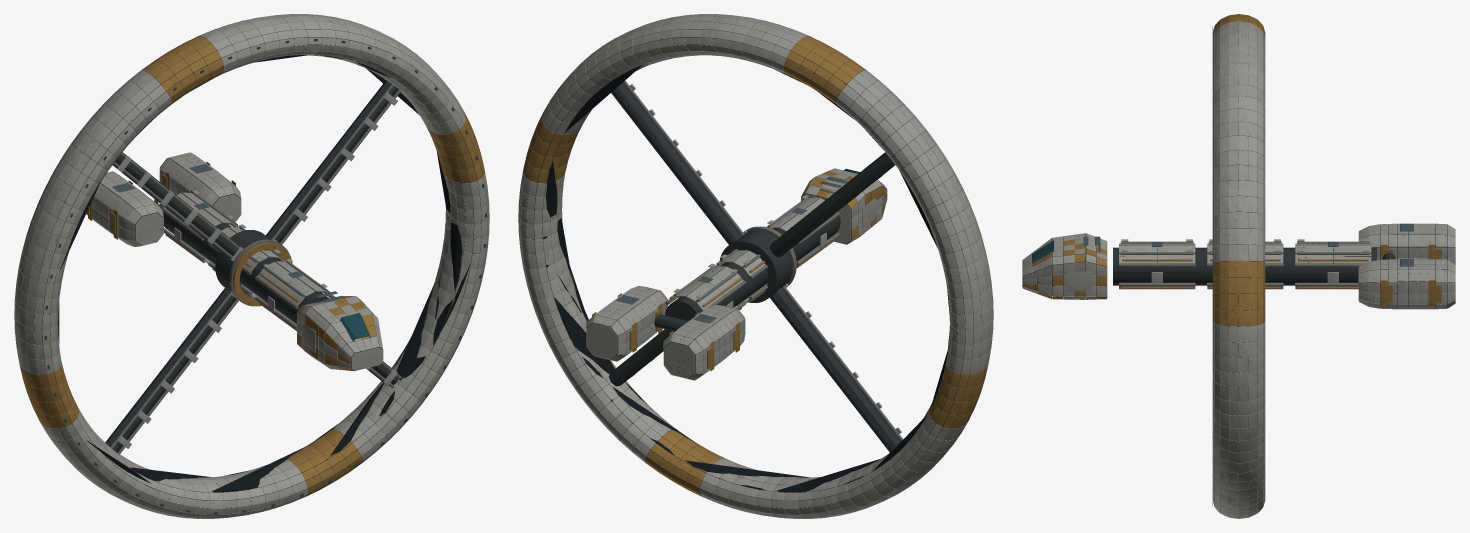
The model's file is model-outline.glb.
3 renders of one model, left to right at view 1: azimuth 30°, elevation 25°; view 2: azimuth 150°, elevation 25°; view 3: azimuth 270°, elevation 25°, orthographic. The views are drawn at different scales.
Visible parts, largest first — view 1: rotor:pale-steel-1, rotor:pale-steel-2, rotor:pale-steel-0, rotor:ochre-0, pale-steel-0, rotor:recess-black, rotor:dark-structure, rotor:machined-alloy, dark-structure, pale-steel-1, ochre-0, machined-alloy (+3 smaller); view 2: rotor:pale-steel-1, rotor:pale-steel-2, rotor:pale-steel-0, rotor:dark-structure, pale-steel-0, rotor:ochre-0, rotor:recess-black, dark-structure, pale-steel-1, ochre-0, rotor:machined-alloy, machined-alloy (+2 smaller); view 3: pale-steel-0, rotor:pale-steel-2, rotor:pale-steel-1, rotor:pale-steel-0, rotor:ochre-0, dark-structure, pale-steel-1, machined-alloy, ochre-0, pale-steel-2, service-ochre, profiled-drive.
Part boxes in pixels (x1=…): rotor:pale-steel-1: x1=15, y1=14, x2=488, y2=518; rotor:pale-steel-2: x1=14, y1=14, x2=489, y2=518; rotor:pale-steel-0: x1=14, y1=14, x2=489, y2=518; rotor:ochre-0: x1=19, y1=36, x2=485, y2=496; pale-steel-0: x1=86, y1=152, x2=383, y2=370; rotor:recess-black: x1=25, y1=29, x2=482, y2=513; rotor:dark-structure: x1=105, y1=80, x2=398, y2=452; rotor:machined-alloy: x1=110, y1=84, x2=401, y2=454; dark-structure: x1=158, y1=194, x2=329, y2=324; pale-steel-1: x1=174, y1=190, x2=383, y2=371; ochre-0: x1=86, y1=161, x2=383, y2=370; machined-alloy: x1=161, y1=192, x2=335, y2=329; rotor:pale-steel-1: x1=519, y1=14, x2=992, y2=518; rotor:pale-steel-2: x1=518, y1=14, x2=993, y2=518; rotor:pale-steel-0: x1=518, y1=14, x2=993, y2=518; rotor:dark-structure: x1=609, y1=82, x2=901, y2=452; pale-steel-0: x1=586, y1=171, x2=887, y2=380; rotor:ochre-0: x1=522, y1=36, x2=988, y2=496; rotor:recess-black: x1=525, y1=29, x2=982, y2=513; dark-structure: x1=654, y1=198, x2=840, y2=332; pale-steel-1: x1=673, y1=168, x2=881, y2=307; ochre-0: x1=592, y1=171, x2=887, y2=371; rotor:machined-alloy: x1=623, y1=80, x2=903, y2=440; machined-alloy: x1=665, y1=197, x2=839, y2=311; pale-steel-0: x1=1022, y1=223, x2=1455, y2=309; rotor:pale-steel-2: x1=1212, y1=21, x2=1265, y2=517; rotor:pale-steel-1: x1=1212, y1=25, x2=1265, y2=518; rotor:pale-steel-0: x1=1212, y1=31, x2=1265, y2=515; rotor:ochre-0: x1=1212, y1=14, x2=1265, y2=326; dark-structure: x1=1113, y1=247, x2=1395, y2=285; pale-steel-1: x1=1022, y1=233, x2=1369, y2=299; machined-alloy: x1=1119, y1=241, x2=1371, y2=286; ochre-0: x1=1022, y1=239, x2=1441, y2=306; pale-steel-2: x1=1119, y1=243, x2=1195, y2=289; service-ochre: x1=1122, y1=259, x2=1368, y2=288; profiled-drive: x1=1359, y1=224, x2=1454, y2=308.
Size of the model in its own units: 84.13 by 84.13 by 72.17.
10 materials, 9 textured.
